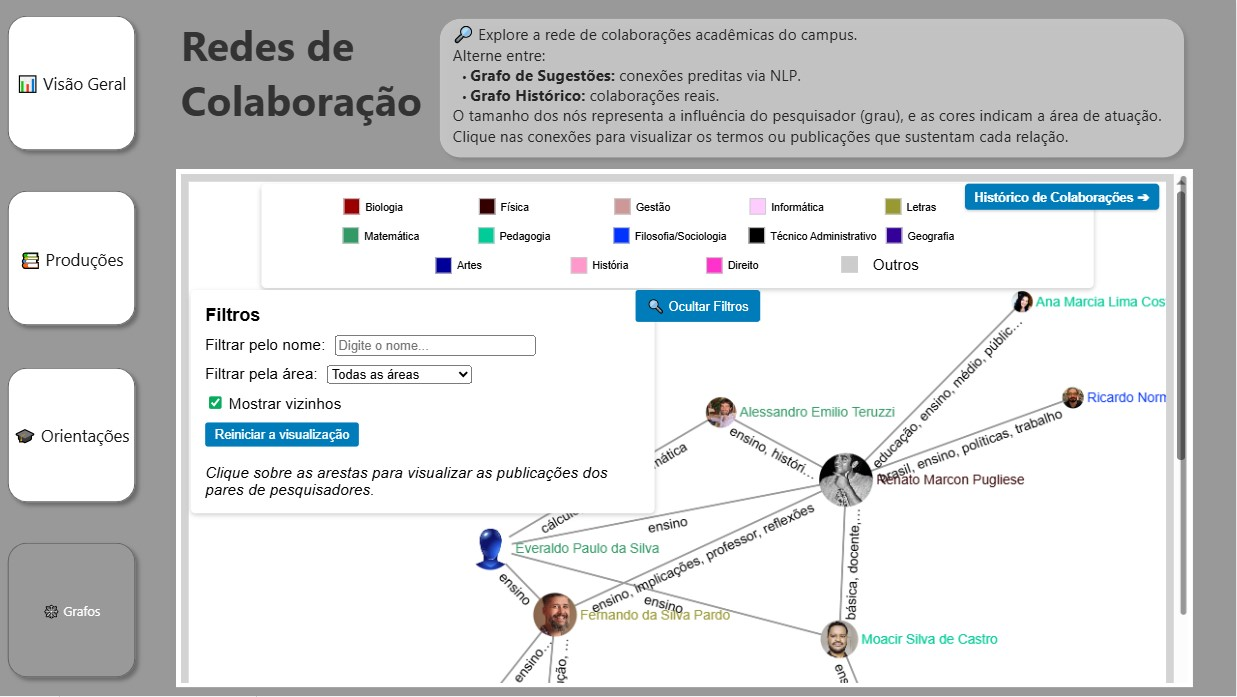

Layout of this report page (visuals, bound fields, positions):
{"tool":"powerbi","page":{"name":"🕸️ Grafos","canvas":[1280,720],"ordinal":3},"visuals":[{"type":"STANDALONEhtmlContent443BE3AD55E043BF878BED274D3A6855","fields":{"content":["lattes.Grafo_GitHub"]},"box":[182.8,174.3,1051.7,535.7],"z":0},{"type":"shape","box":[446.5,9.9,788,161.6],"z":1000},{"type":"textbox","box":[464.9,19.8,754,137.5],"z":2000},{"type":"textbox","box":[182.9,12.9,264.3,145.7],"z":3000},{"type":"shape","box":[0,7.1,150,157.1],"z":4000},{"type":"shape","box":[0,188.6,150,157.1],"z":5000},{"type":"shape","box":[0,371.4,150,157.1],"z":6000},{"type":"shape","box":[0,552.9,150,157.1],"z":7000},{"type":"pageNavigator","box":[0,0,150,720],"z":8000}]}

Visuals, with their boxes on the page's 1280x720 design canvas (x1, y1, x2, y2). These are canvas units, not pixel positions in the 1237x697 screenshot, which may show the page scaled, cropped or inside an application window:
STANDALONEhtmlContent443BE3AD55E043BF878BED274D3A6855 - lattes.Grafo_GitHub: 183,174,1234,710
shape: 446,10,1234,172
textbox: 465,20,1219,157
textbox: 183,13,447,159
shape: 0,7,150,164
shape: 0,189,150,346
shape: 0,371,150,528
shape: 0,553,150,710
pageNavigator: 0,0,150,720
